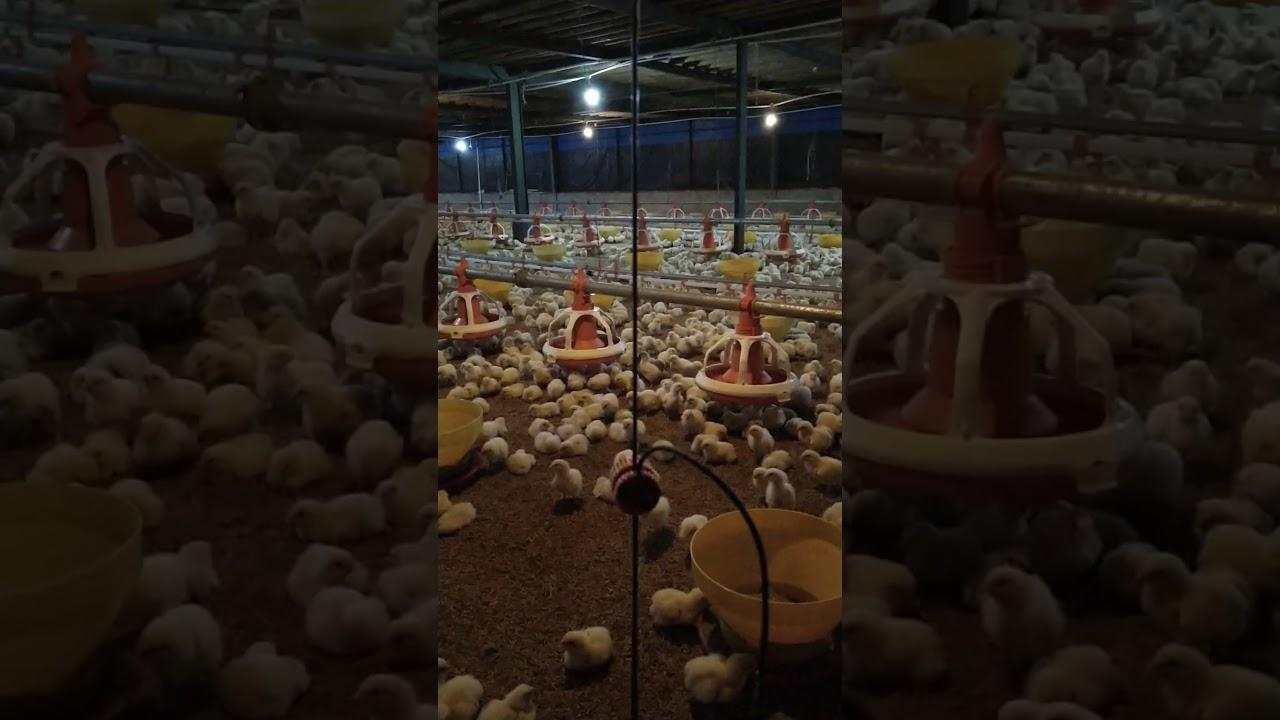chicken: (684, 649, 759, 702), (560, 624, 614, 671), (480, 682, 539, 720), (650, 583, 703, 625), (798, 449, 840, 487), (549, 458, 583, 496), (701, 440, 738, 465), (744, 426, 774, 452), (509, 448, 534, 474)
